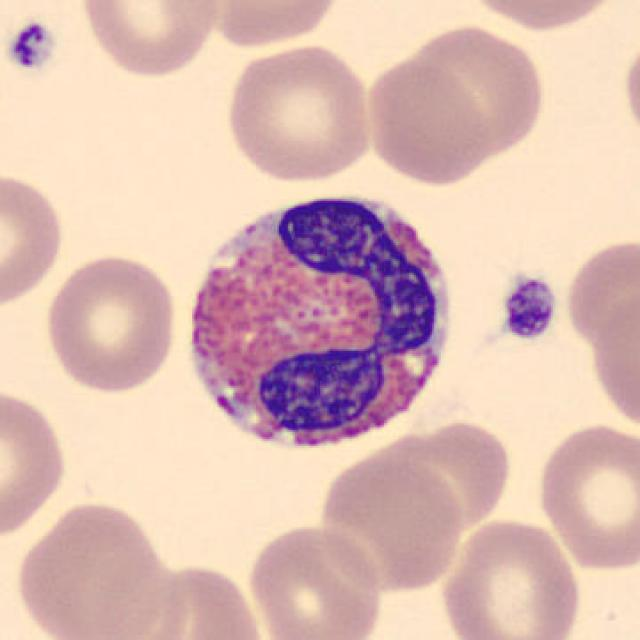Eosinophil: (169, 173, 466, 476)
Platelets: (498, 271, 562, 344), (4, 18, 58, 74)
RBC: (384, 18, 551, 162), (12, 497, 174, 640), (220, 39, 377, 185), (313, 448, 467, 594), (41, 250, 181, 397), (437, 515, 585, 640), (361, 54, 492, 188), (244, 520, 386, 640), (372, 420, 517, 536), (532, 418, 638, 576), (117, 559, 270, 640), (76, 0, 227, 79), (0, 382, 71, 544), (0, 167, 68, 314), (562, 231, 638, 354), (587, 282, 638, 437), (206, 0, 348, 51), (457, 0, 626, 33), (618, 24, 640, 153)
